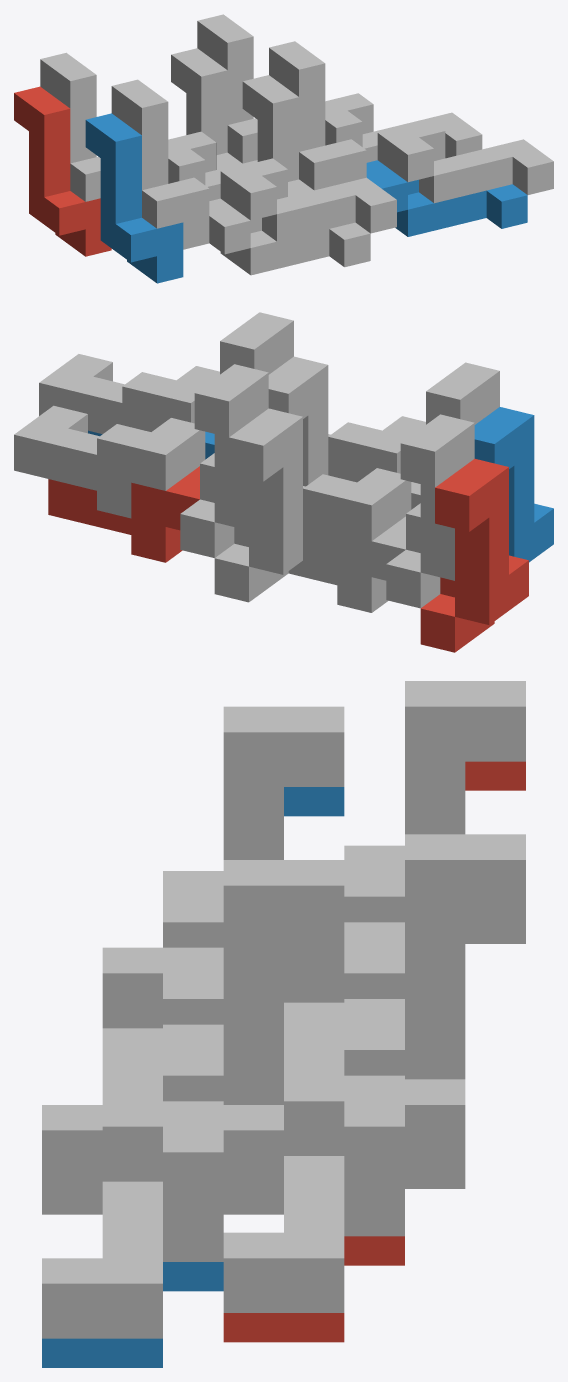
File: tiling.obj
3 renders of one model, top to bottom at view 1: azimuth 30°, elevation 25°; view 2: azimuth 150°, elevation 25°; view 3: azimuth 270°, elevation 25°, orthographic. The views are drawn at different scales.
Visible parts, largest first — view 1: copy_2_domain_8, copy_2_domain_4, copy_1_domain_2, copy_1_domain_1, copy_1_domain_4, copy_1_domain_8, copy_2_domain_2, copy_2_domain_6, copy_1_domain_7, copy_1_domain_3, copy_1_domain_5, copy_1_domain_6 (+2 smaller); view 2: copy_1_domain_1, copy_2_domain_7, copy_1_domain_5, copy_1_domain_7, copy_1_domain_3, copy_2_domain_8, copy_2_domain_3, copy_2_domain_5, copy_1_domain_2, copy_2_domain_1, copy_1_domain_6, copy_2_domain_4 (+2 smaller); view 3: copy_1_domain_8, copy_1_domain_7, copy_2_domain_8, copy_2_domain_7, copy_2_domain_4, copy_1_domain_4, copy_1_domain_3, copy_2_domain_3, copy_2_domain_5, copy_2_domain_6, copy_1_domain_6, copy_1_domain_5 (+3 smaller).
Boxes of the visible parts, x1,y1,x2,y2 form: copy_2_domain_8: (377,120,553,203); copy_2_domain_4: (220,158,396,241); copy_1_domain_2: (85,113,183,283); copy_1_domain_1: (14,86,111,256); copy_1_domain_4: (111,79,209,249); copy_1_domain_8: (269,41,366,190); copy_2_domain_2: (209,198,370,275); copy_2_domain_6: (366,160,527,236); copy_1_domain_7: (197,14,257,163); copy_1_domain_3: (40,52,100,201); copy_1_domain_5: (171,48,242,169); copy_1_domain_6: (242,75,313,196); copy_1_domain_1: (420,458,528,652); copy_2_domain_7: (14,405,205,518); copy_1_domain_5: (214,408,302,602); copy_1_domain_7: (180,364,268,557); copy_1_domain_3: (386,414,474,608); copy_2_domain_8: (39,354,219,433); copy_2_domain_3: (303,468,411,568); copy_2_domain_5: (48,466,199,562); copy_1_domain_2: (474,407,553,562); copy_2_domain_1: (288,516,405,612); copy_1_domain_6: (268,356,328,486); copy_2_domain_4: (328,416,425,482); copy_1_domain_8: (163,860,344,1185); copy_1_domain_7: (344,834,525,1159); copy_2_domain_8: (42,1101,223,1338); copy_2_domain_7: (223,1075,404,1312); copy_2_domain_4: (42,947,223,1185); copy_1_domain_4: (163,706,344,947); copy_1_domain_3: (344,681,525,922); copy_2_domain_3: (284,922,404,1075); copy_2_domain_5: (223,1236,404,1342); copy_2_domain_6: (42,1262,223,1367); copy_1_domain_6: (223,940,344,1214); copy_1_domain_5: (405,915,525,1188).
Bounding box in the file's own units: 16 × 6 × 8.
